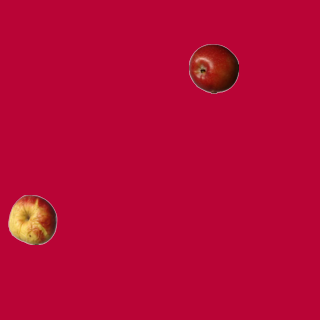Apple Braeburn: (188, 43, 238, 93)
Apple Red Yellow 1: (7, 194, 57, 244)
